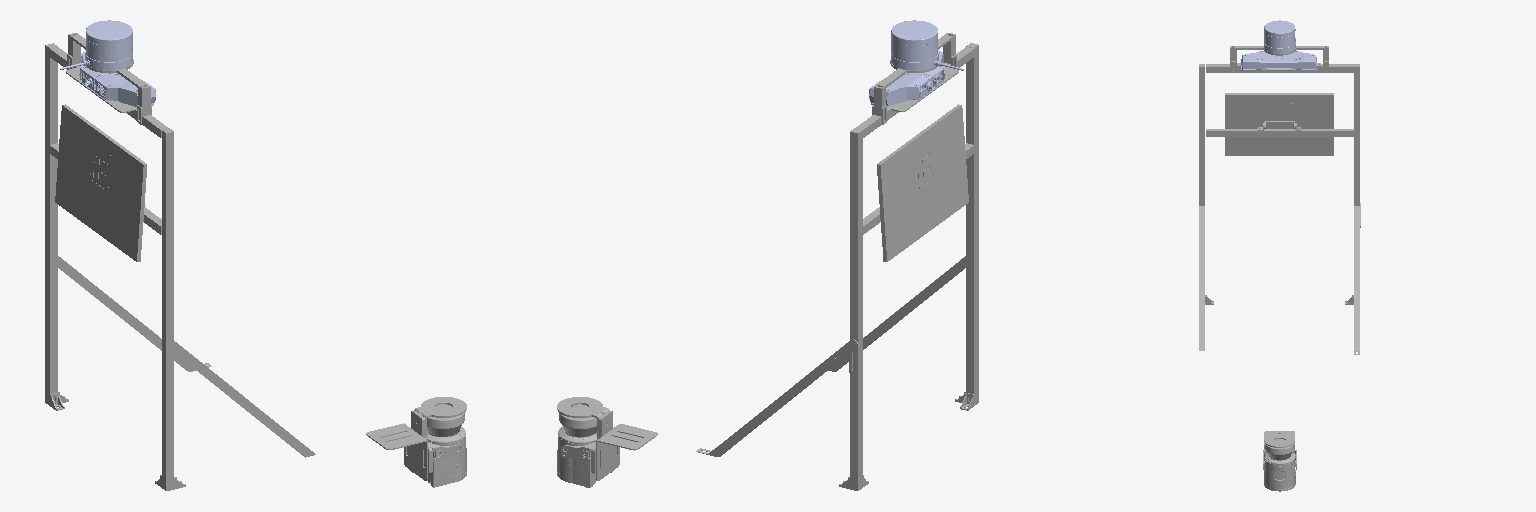
The robot description file, URDF, robot "robot":
<?xml version="1.0" encoding="utf-8"?>


<robot
  name="robot">

  <!-- Links -->
  <link name="support_base_link">
    <inertial>
      <origin
        xyz="0.10327832052149 0.0372466954324708 -0.496378650684954"
        rpy="0 0 0" />
      <mass
        value="2.48080254473007" />
      <inertia
        ixx="0.0773744637334238"
        ixy="6.4002592223489E-07"
        ixz="0.00368711874111876"
        iyy="0.0690926422502958"
        iyz="-1.37878734358701E-06"
        izz="0.0161283270553764" />
    </inertial>
    <visual>
      <origin
        xyz="0 0 0"
        rpy="0 0 0" />
      <geometry>
        <mesh
          filename="package://robot/meshes/support_base_link.STL" />
      </geometry>
      <material
        name="">
        <color
          rgba="0.752941176470588 0.752941176470588 0.752941176470588 1" />
      </material>
    </visual>
    <collision>
      <origin
        xyz="0 0 0"
        rpy="0 0 0" />
      <geometry>
        <mesh
          filename="package://robot/meshes/support_base_link.STL" />
      </geometry>
    </collision>
  </link>

  <link name="monitor_link">
    <inertial>
      <origin
        xyz="-0.0047452378025854 0.0374927729597716 -0.0810460101735"
        rpy="0 0 0" />
      <mass
        value="0.761253986809395" />
      <inertia
        ixx="0.0111724861155116"
        ixy="-2.34080031154773E-08"
        ixz="-8.89378662767494E-08"
        iyy="0.00330658399426738"
        iyz="9.02422878814709E-08"
        izz="0.0078773344892865" />
    </inertial>
    <visual>
      <origin
        xyz="0 0 0"
        rpy="0 0 0" />
      <geometry>
        <mesh
          filename="package://robot/meshes/monitor_link.STL" />
      </geometry>
      <material
        name="">
        <color
          rgba="0.752941176470588 0.752941176470588 0.752941176470588 1" />
      </material>
    </visual>
    <collision>
      <origin
        xyz="0 0 0"
        rpy="0 0 0" />
      <geometry>
        <mesh
          filename="package://robot/meshes/monitor_link.STL" />
      </geometry>
    </collision>
  </link>

  <link name="pendant_link">
    <inertial>
      <origin
        xyz="0.0350056429345722 -0.0968680905917769 -0.0288958119315054"
        rpy="0 0 0" />
      <mass
        value="0.968577764159598" />
      <inertia
        ixx="0.0108572978517465"
        ixy="-2.44332736320261E-06"
        ixz="-8.87980157348568E-06"
        iyy="0.00402761225251736"
        iyz="-0.000107899701770472"
        izz="0.00690594243315491" />
    </inertial>
    <visual>
      <origin
        xyz="0 0 0"
        rpy="0 0 0" />
      <geometry>
        <mesh
          filename="package://robot/meshes/pendant_link.STL" />
      </geometry>
      <material
        name="">
        <color
          rgba="0.752941176470588 0.752941176470588 0.752941176470588 1" />
      </material>
    </visual>
    <collision>
      <origin
        xyz="0 0 0"
        rpy="0 0 0" />
      <geometry>
        <mesh
          filename="package://robot/meshes/pendant_link.STL" />
      </geometry>
    </collision>
  </link>

  <link name="velodyne_base_link">
    <inertial>
      <origin
        xyz="-2.58019504939533E-06 0.000294784456415398 0.0357745257662945"
        rpy="0 0 0" />
      <mass
        value="0.585082152463546" />
      <inertia
        ixx="0.000630263912670069"
        ixy="-1.12579157483122E-10"
        ixz="-5.00503005886412E-08"
        iyy="0.000629066957604987"
        iyz="-6.84879830425266E-08"
        izz="0.000749251773697657" />
    </inertial>
    <visual>
      <origin
        xyz="0 0 0"
        rpy="0 0 0" />
      <geometry>
        <mesh
          filename="package://robot/meshes/velodyne_base_link.STL" />
      </geometry>
      <material
        name="">
        <color
          rgba="0.792156862745098 0.819607843137255 0.933333333333333 1" />
      </material>
    </visual>
    <collision>
      <origin
        xyz="0 0 0"
        rpy="0 0 0" />
      <geometry>
        <mesh
          filename="package://robot/meshes/velodyne_base_link.STL" />
      </geometry>
    </collision>
  </link>

  <link name="viper_support_base_link">
    <inertial>
      <origin
        xyz="-0.000961026680645904 -0.0002828303716369 0.0113571933014833"
        rpy="0 0 0" />
      <mass
        value="0.279111471310996" />
      <inertia
        ixx="0.00131536508624289"
        ixy="-3.22784169903359E-06"
        ixz="1.35831142959975E-06"
        iyy="0.00016956077268555"
        iyz="1.62926573963573E-07"
        izz="0.00142067025381908" />
    </inertial>
    <visual>
      <origin
        xyz="0 0 0"
        rpy="0 0 0" />
      <geometry>
        <mesh
          filename="package://robot/meshes/viper_support_base_link.STL" />
      </geometry>
      <material
        name="">
        <color
          rgba="0.792156862745098 0.819607843137255 0.933333333333333 1" />
      </material>
    </visual>
    <collision>
      <origin
        xyz="0 0 0"
        rpy="0 0 0" />
      <geometry>
        <mesh
          filename="package://robot/meshes/viper_support_base_link.STL" />
      </geometry>
    </collision>
  </link>

  <link name="laser_frame_base_link">
    <inertial>
      <origin
        xyz="-0.0925662167299411 0.0204935426320307 0.0287588041043606"
        rpy="0 0 0" />
      <mass
        value="0.453009728797675" />
      <inertia
        ixx="0.000839483776537808"
        ixy="3.58334319531758E-08"
        ixz="1.10201699132376E-07"
        iyy="0.000466064154296071"
        iyz="-1.38182722960199E-06"
        izz="0.000806388506070963" />
    </inertial>
    <visual>
      <origin
        xyz="0 0 0"
        rpy="0 0 0" />
      <geometry>
        <mesh
          filename="package://robot/meshes/laser_frame_base_link.STL" />
      </geometry>
      <material
        name="">
        <color
          rgba="0.752941176470588 0.752941176470588 0.752941176470588 1" />
      </material>
    </visual>
    <collision>
      <origin
        xyz="0 0 0"
        rpy="0 0 0" />
      <geometry>
        <mesh
          filename="package://robot/meshes/laser_frame_base_link.STL" />
      </geometry>
    </collision>
  </link>

  <link  name="lms_laser_base_link">
    <inertial>
      <origin
        xyz="-0.00412078407198768 -7.34978732919167E-06 -0.083658932216063"
        rpy="0 0 0" />
      <mass
        value="1.18047297289236" />
      <inertia
        ixx="0.00287819441466123"
        ixy="-1.63359094880313E-07"
        ixz="-9.33735176576001E-05"
        iyy="0.00289391901098803"
        iyz="-3.30462509615558E-07"
        izz="0.00159334262017427" />
    </inertial>
    <visual>
      <origin
        xyz="0 0 0"
        rpy="0 0 0" />
      <geometry>
        <mesh
          filename="package://robot/meshes/lms_laser_base_link.STL" />
      </geometry>
      <material
        name="">
        <color
          rgba="0.752941176470588 0.752941176470588 0.752941176470588 1" />
      </material>
    </visual>
    <collision>
      <origin
        xyz="0 0 0"
        rpy="0 0 0" />
      <geometry>
        <mesh
          filename="package://robot/meshes/lms_laser_base_link.STL" />
      </geometry>
    </collision>
  </link>

  <!-- Joints -->
  <joint name="support_to_monitor_joint" type="fixed">
    <origin
      xyz="-0.0093899 -0.037642 -0.20647"
      rpy="0 0.074318 0" />
    <parent
      link="support_base_link" />
    <child
      link="monitor_link" />
    <axis
      xyz="0 0 0" />
  </joint>

  <joint name="support_to_pendant_joint" type="fixed">
    <origin
      xyz="-0.014461 -0.095005 -0.55431"
      rpy="0 0 -3.1416" />
    <parent
      link="support_base_link" />
    <child
      link="pendant_link" />
    <axis
      xyz="0 0 0" />
  </joint>

  <joint name="support_to_velodyne_base_joint" type="fixed">
    <origin
      xyz="0 0 0"
      rpy="0 0 1.5544" />
    <parent
      link="support_base_link" />
    <child
      link="velodyne_base_link" />
    <axis
      xyz="0 0 1" />
  </joint>

  <joint name="support_to_viper_base_joint" type="fixed">
    <origin
      xyz="0.0065 -0.0021801 -0.059"
      rpy="0 0 0" />
    <parent
      link="support_base_link" />
    <child
      link="viper_support_base_link" />
    <axis
      xyz="0 0 0" />
  </joint>

  <joint name="support_to_laser_frame_joint" type="fixed">
    <origin
      xyz="0.83126 -0.00014165 -1.0154"
      rpy="0 0 0" />
    <parent
      link="support_base_link" />
    <child
      link="laser_frame_base_link" />
    <axis
      xyz="0 0 0" />
  </joint>

  <joint name="lms_laser_base_joint" type="fixed">
    <origin
      xyz="-0.00124 0 -0.0083707"
      rpy="0 0 0.00016969" />
    <parent
      link="laser_frame_base_link" />
    <child
      link="lms_laser_base_link" />
    <axis
      xyz="0 0 0" />
  </joint>



</robot>

--- Facts derived from the render (not from the file) ---
The picture shows the robot from 3 angles, left to right: view 1: azimuth 30°, elevation 25°; view 2: azimuth 150°, elevation 25°; view 3: azimuth 270°, elevation 25°; orthographic projection.
Model robot with 7 links and 6 joints (6 fixed), rooted at support_base_link, posed all joints at 0.
Visible links, largest first — view 1: support_base_link, monitor_link, laser_frame_base_link, velodyne_base_link, lms_laser_base_link, viper_support_base_link; view 2: support_base_link, monitor_link, laser_frame_base_link, velodyne_base_link, lms_laser_base_link, viper_support_base_link; view 3: support_base_link, monitor_link, lms_laser_base_link, viper_support_base_link, velodyne_base_link, laser_frame_base_link.
Boxes of the visible links, box(x1,y1,x2,y2) form: support_base_link: box(45, 33, 315, 490); monitor_link: box(55, 104, 146, 261); laser_frame_base_link: box(366, 397, 466, 480); velodyne_base_link: box(60, 20, 132, 70); lms_laser_base_link: box(410, 404, 466, 487); viper_support_base_link: box(79, 52, 155, 106); support_base_link: box(696, 33, 978, 490); monitor_link: box(877, 104, 968, 261); laser_frame_base_link: box(557, 397, 657, 480); velodyne_base_link: box(891, 20, 963, 70); lms_laser_base_link: box(557, 404, 612, 487); viper_support_base_link: box(869, 51, 945, 106); support_base_link: box(1199, 46, 1360, 354); monitor_link: box(1225, 93, 1333, 155); lms_laser_base_link: box(1264, 439, 1295, 491); viper_support_base_link: box(1241, 51, 1316, 69); velodyne_base_link: box(1264, 20, 1295, 53); laser_frame_base_link: box(1263, 431, 1296, 469).
Bounding box of the posed robot: 1 × 0.5229 × 1.26 m (x, y, z).
Meshes: 7 distinct files referenced, 6 mesh visuals loaded (6 binary STL); not drawn: 1 (reference not matched to a file when rendering).